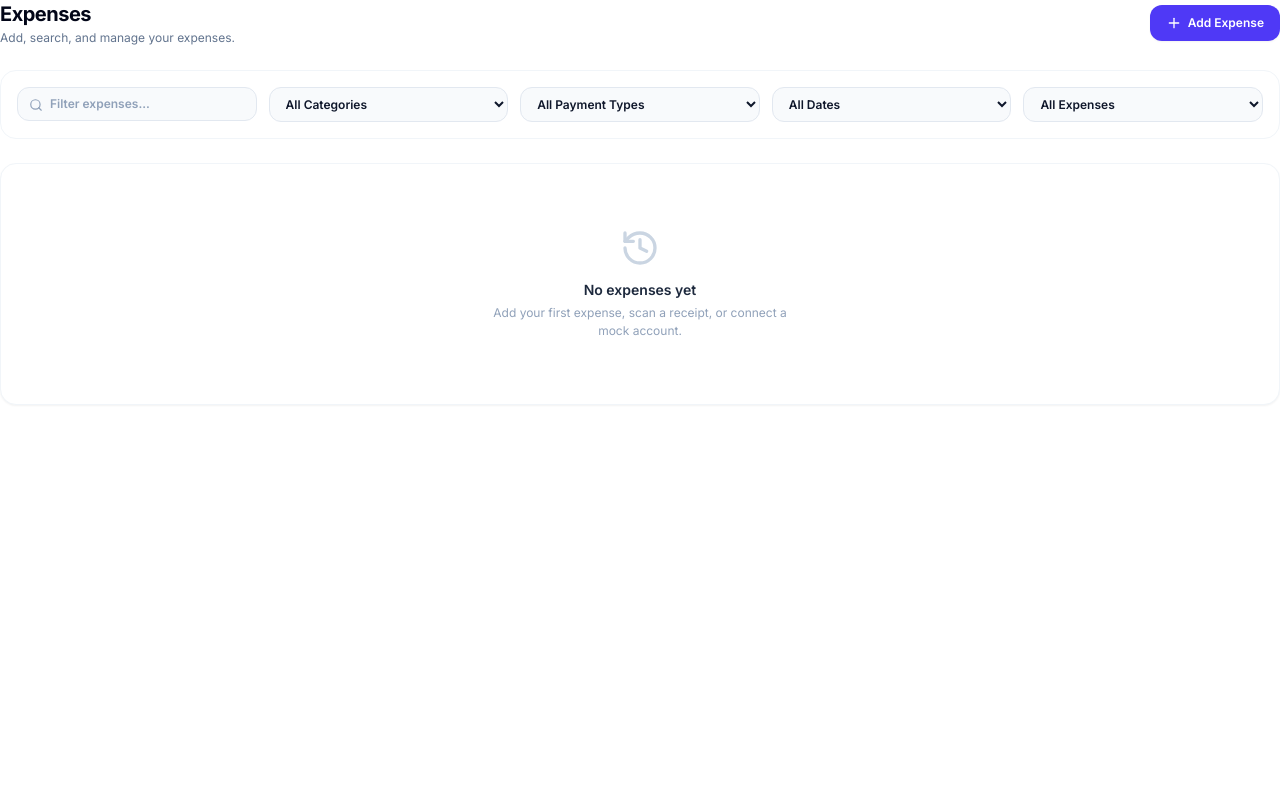
Test: critical UI workflows › expenses empty state renders and opens the add expense dialog
Expected: the heading "No expenses yet" is shown, [584, 281, 696, 298]
Expected: the text "Add your first expense, scan a receipt, or connect a mock account." is shown, [480, 304, 800, 340]
What coordinates should you click on to do the following:
click the button "Add Expense"
I would click on:
 (1215, 23)
Its box is [1150, 5, 1279, 41].
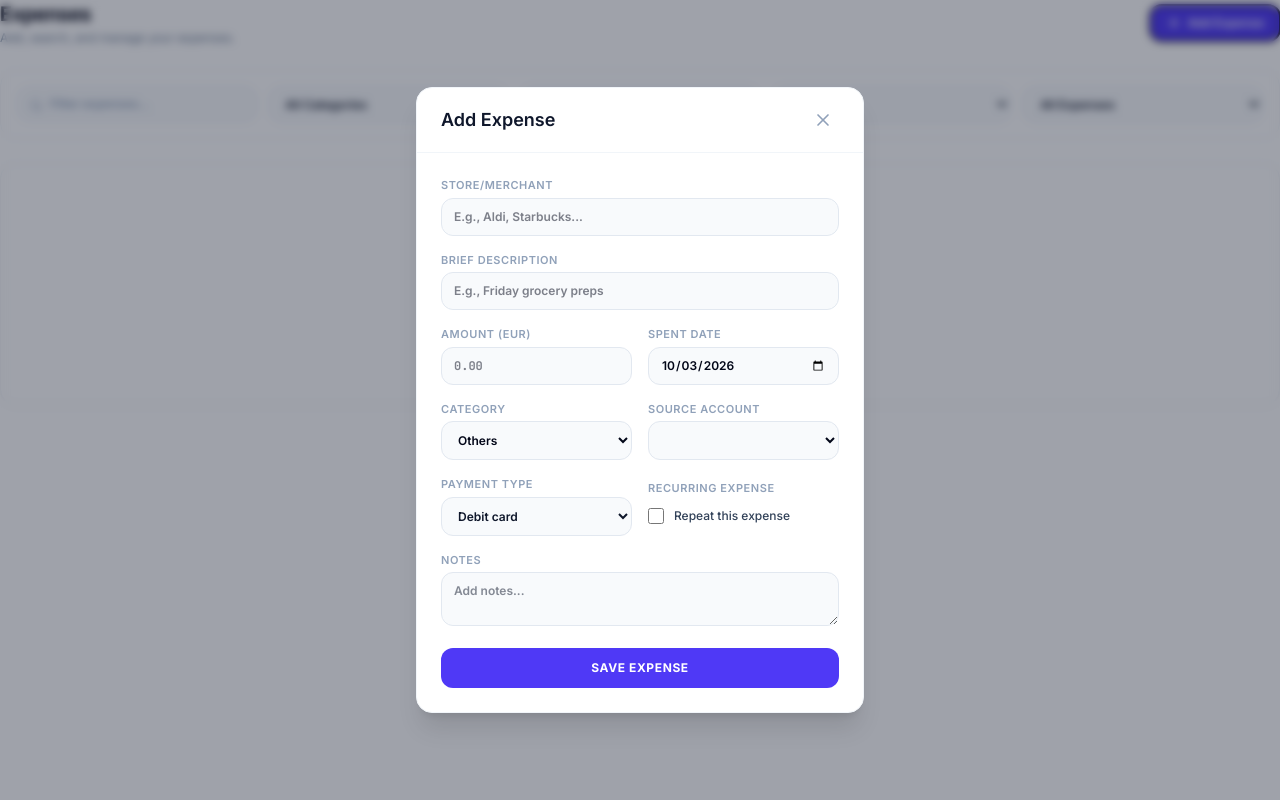
Expected: the dialog "Add Expense" is shown, [416, 87, 864, 713]
